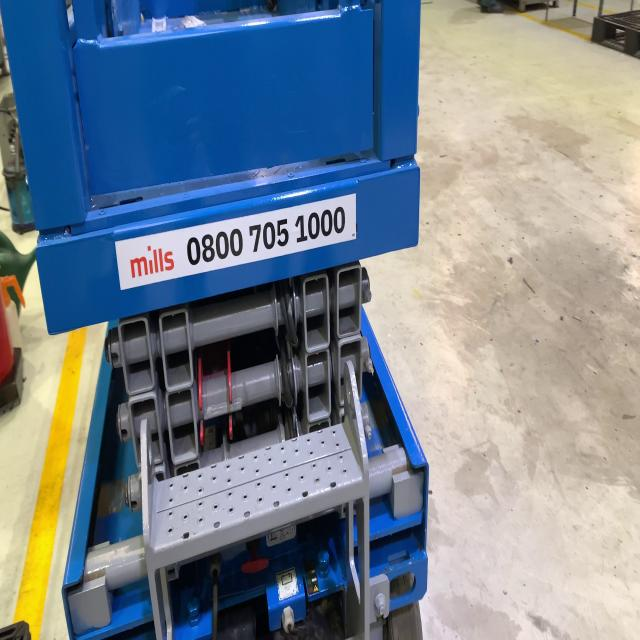Adesivo Longo: (114, 191, 359, 297)
